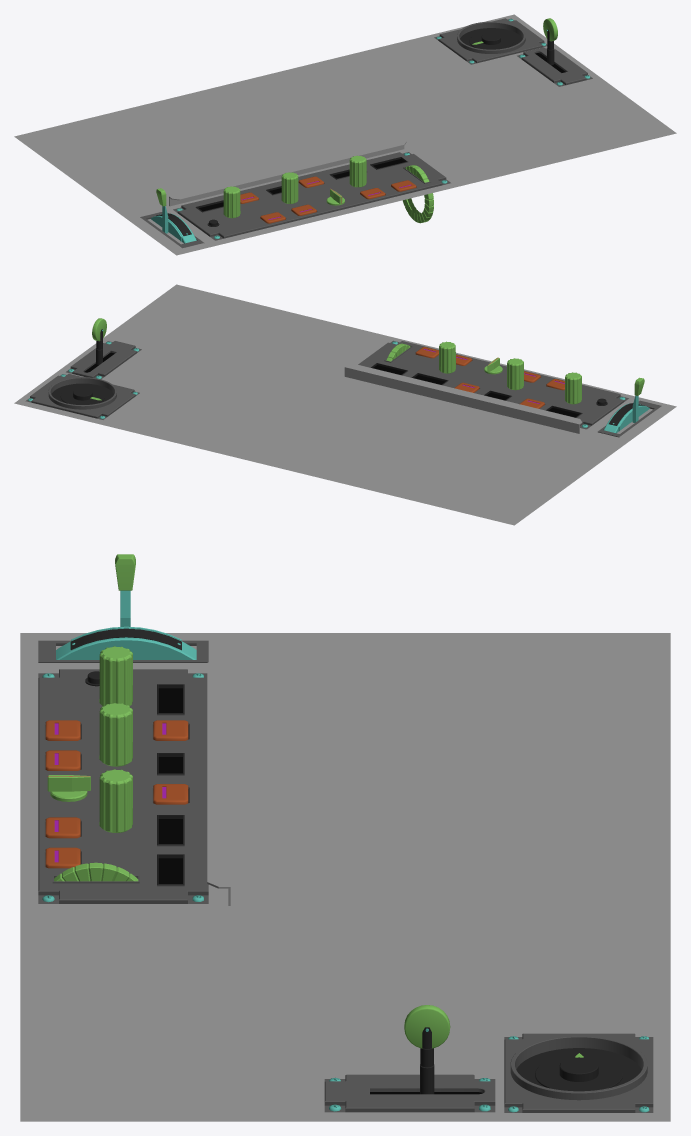
Rendered from plane panel.FBX.
3 renders of one model, top to bottom at view 1: azimuth 30°, elevation 25°; view 2: azimuth 150°, elevation 25°; view 3: azimuth 270°, elevation 25°, orthographic. The views are drawn at different scales.
Visible parts, largest first — view 1: base_low, panel1_low, panel3_low, panel4_low, panel2_low, wheel_low, knob2_low, knob3_low, knob1_low, lever2_low; view 2: base_low, panel1_low, panel3_low, panel4_low, panel2_low, knob1_low, knob3_low, knob2_low, lever2_low; view 3: base_low, panel1_low, panel3_low, panel4_low, panel2_low, lever2_low, knob2_low, knob3_low, knob1_low, wheel_low, lever1_low, switch1_low.
Part boxes in pixels (x1=…): base_low: x1=14, y1=14, x2=676, y2=255; panel1_low: x1=173, y1=152, x2=450, y2=240; panel3_low: x1=434, y1=18, x2=547, y2=64; panel4_low: x1=517, y1=47, x2=592, y2=86; panel2_low: x1=140, y1=212, x2=203, y2=248; wheel_low: x1=402, y1=165, x2=433, y2=223; knob2_low: x1=281, y1=172, x2=298, y2=203; knob3_low: x1=349, y1=155, x2=366, y2=187; knob1_low: x1=223, y1=186, x2=240, y2=218; lever2_low: x1=543, y1=18, x2=557, y2=65; base_low: x1=14, y1=284, x2=676, y2=525; panel1_low: x1=358, y1=340, x2=628, y2=429; panel3_low: x1=25, y1=373, x2=139, y2=419; panel4_low: x1=66, y1=341, x2=141, y2=379; panel2_low: x1=598, y1=400, x2=661, y2=437; knob1_low: x1=565, y1=372, x2=581, y2=404; knob3_low: x1=439, y1=341, x2=455, y2=373; knob2_low: x1=507, y1=358, x2=523, y2=390; lever2_low: x1=92, y1=318, x2=106, y2=365; base_low: x1=20, y1=633, x2=670, y2=1121; panel1_low: x1=38, y1=669, x2=208, y2=903; panel3_low: x1=504, y1=1033, x2=653, y2=1112; panel4_low: x1=324, y1=1074, x2=495, y2=1112; panel2_low: x1=38, y1=626, x2=208, y2=662; lever2_low: x1=404, y1=1005, x2=450, y2=1094; knob2_low: x1=99, y1=703, x2=132, y2=766; knob3_low: x1=99, y1=769, x2=132, y2=832; knob1_low: x1=99, y1=646, x2=132, y2=706; wheel_low: x1=54, y1=862, x2=138, y2=881; lever1_low: x1=115, y1=554, x2=135, y2=626; switch1_low: x1=47, y1=775, x2=90, y2=801.
Size of the model in its own units: 3048 by 511 by 1714.
